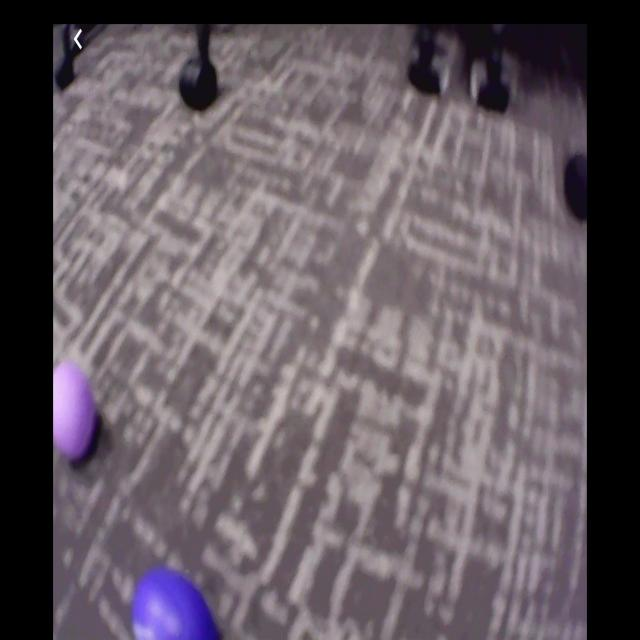ball: (130, 568, 218, 640), (56, 361, 99, 462)
